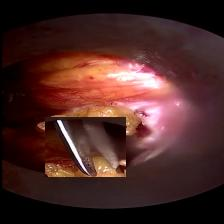Scissors: (44, 118, 125, 178)
